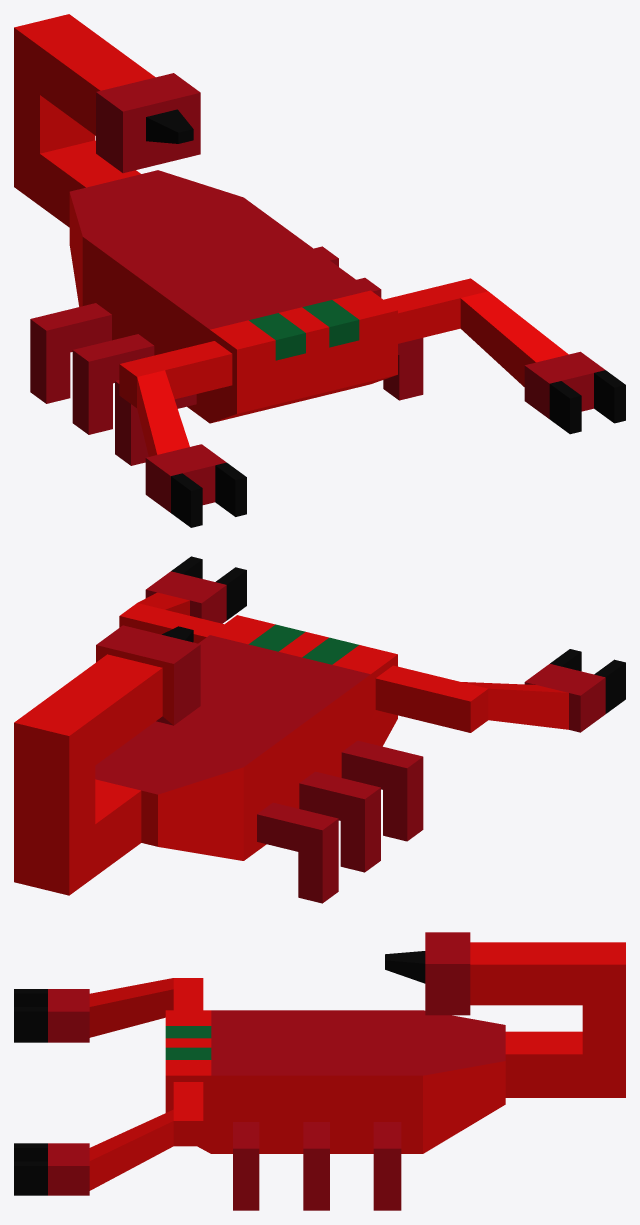
Rendered from bug_variant_2_r.fbx.
3 views of the same model, one above another, from view 1: azimuth 30°, elevation 25°; view 2: azimuth 150°, elevation 25°; view 3: azimuth 270°, elevation 25° (orthographic). The views are drawn at different scales.
Parts seen in each view (by area): view 1: Cube; view 2: Cube; view 3: Cube.
Part boxes in pixels (x1,y1,x2,y2): Cube: (14,14,625,527); Cube: (14,556,625,903); Cube: (14,932,625,1210).
Size of the model in its own units: 142 by 76.04 by 207.
